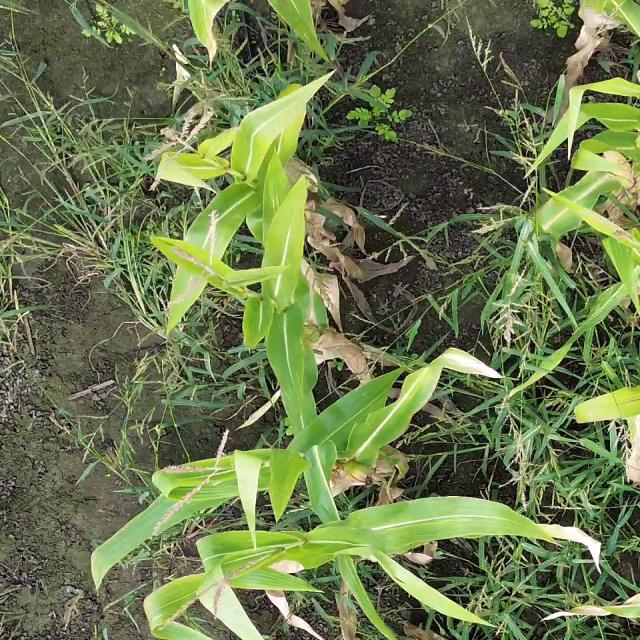gray-leaf-spot: (118, 589, 188, 632)
